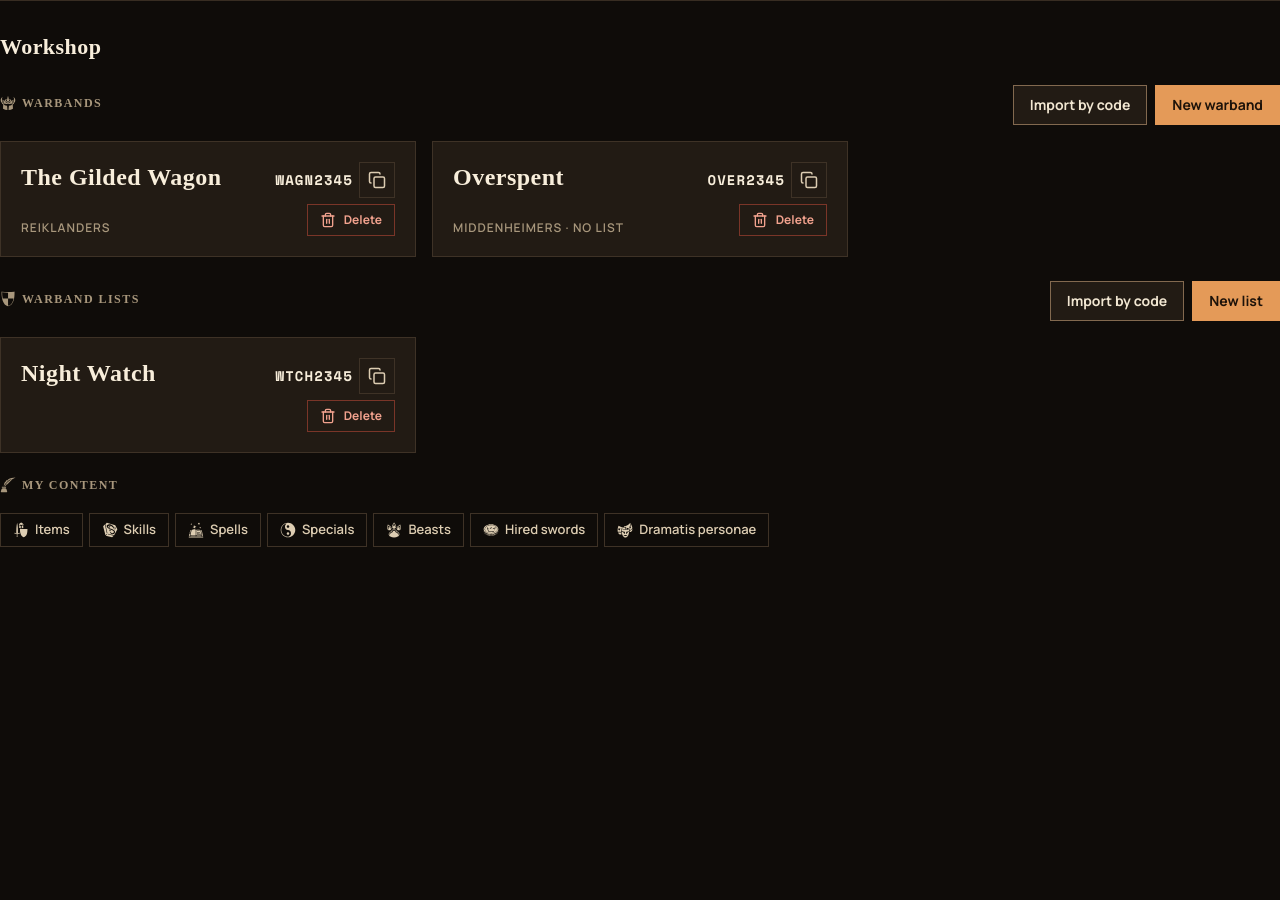
Scenario: Home's workshop sections › shows the server's word on a code nobody has, and imports nothing
The width and height of the screenshot is (1280, 900).
Expected: the element "The Gilded Wagon" is shown, [0,140,416,256]
Click the button "Import by code" in the row of "Warbands": (1080, 104) [1013,84,1147,124]
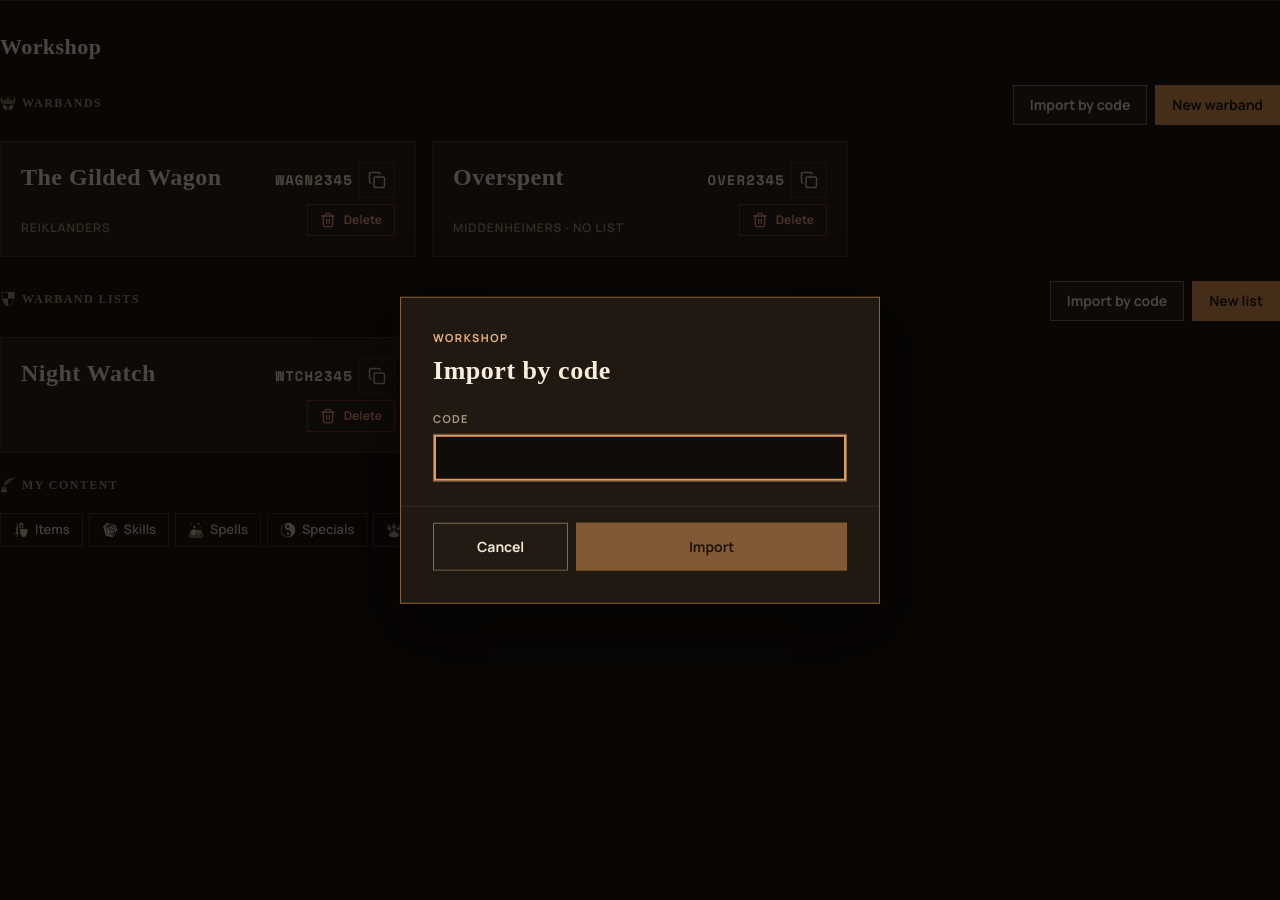
In the field labelled "Code": (640, 457) [433,433,847,481], type "ZZZZ2345"
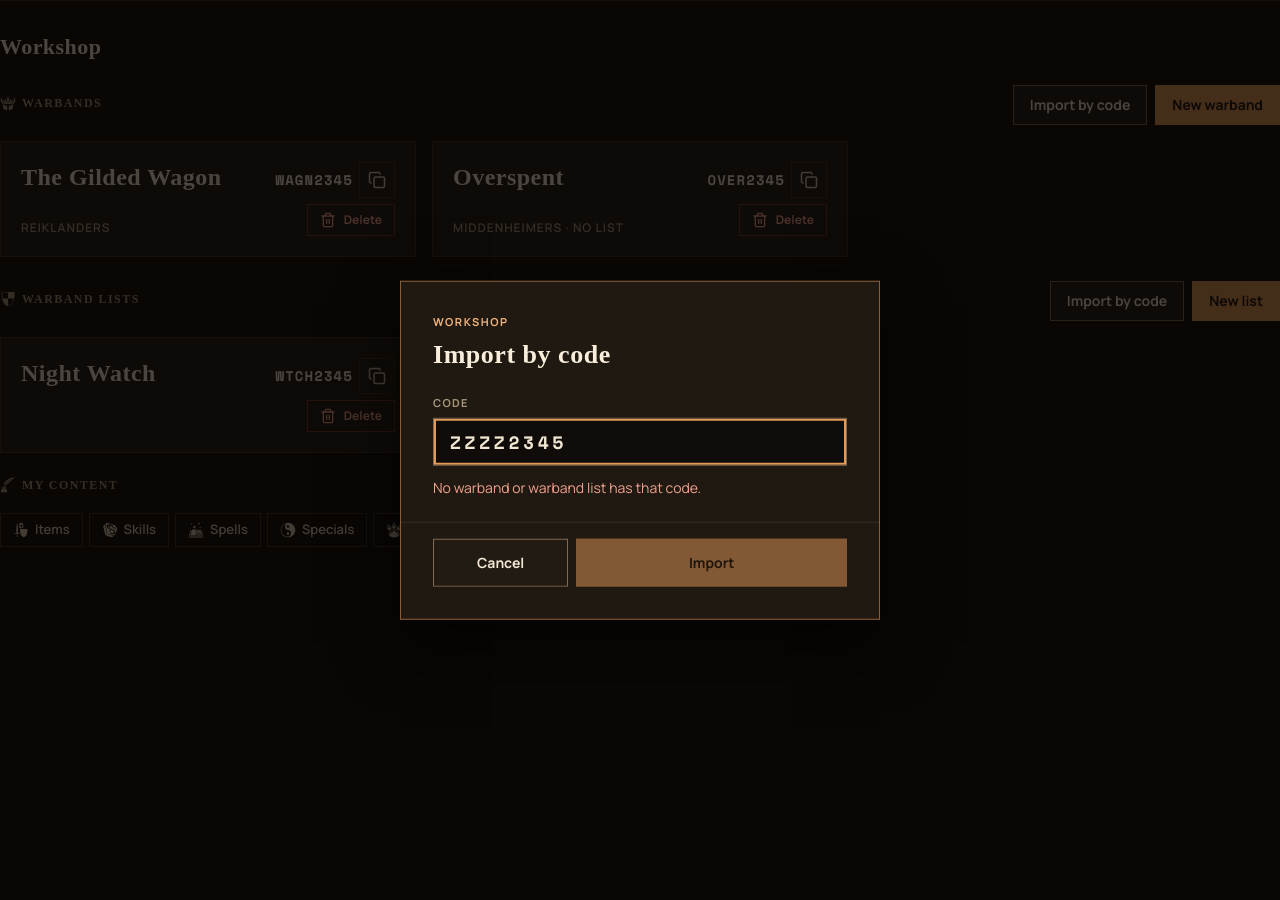
Now the button "Import" is disabled, box [576,538,847,586]
Now the text "No warband or warband list has that code." is shown, box [433,477,701,496]
